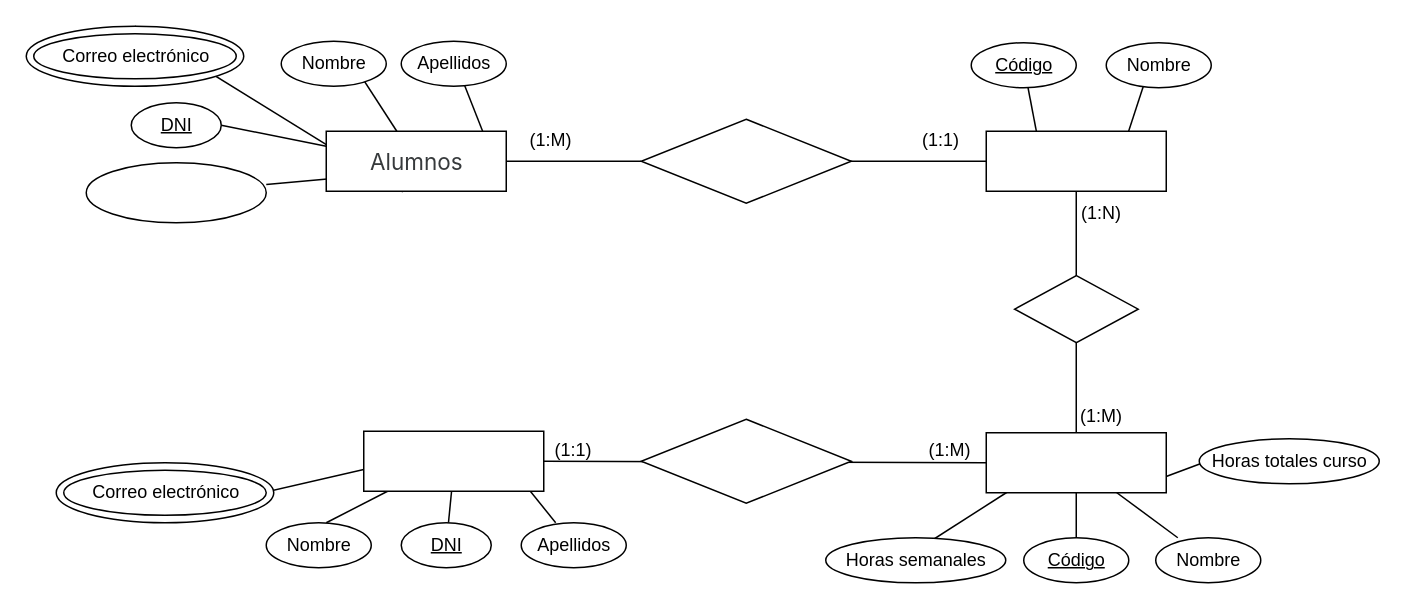
Some shapes in this 1413 by 609 pixel diagram are drawn without their labels. Here are the shapes that lost their labels. From the top down, the centre of each, then its label:
At [745,160]: "se matriculan".
At [1075,160]: "Cursos".
At [175,192]: "Fecha nacimiento".
At [1075,308]: "tienen".
At [453,460]: "Profesores".
At [745,460]: "imparten".
At [1075,462]: "Asignaturas".
